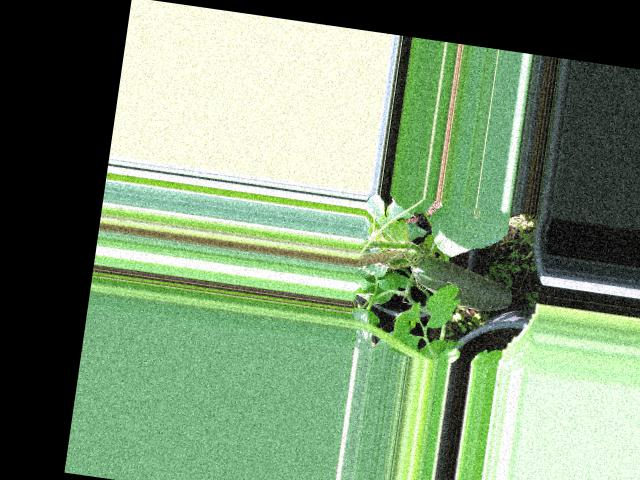cucumber: (407, 253, 516, 314)
